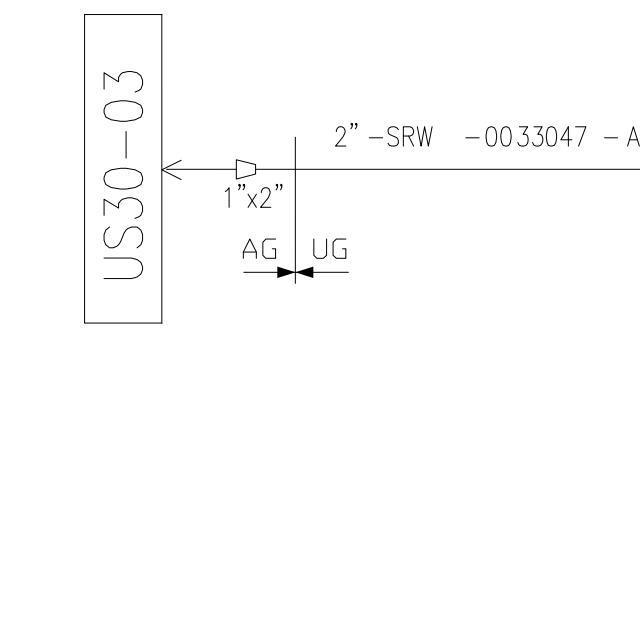SP: (230, 156, 262, 182)
